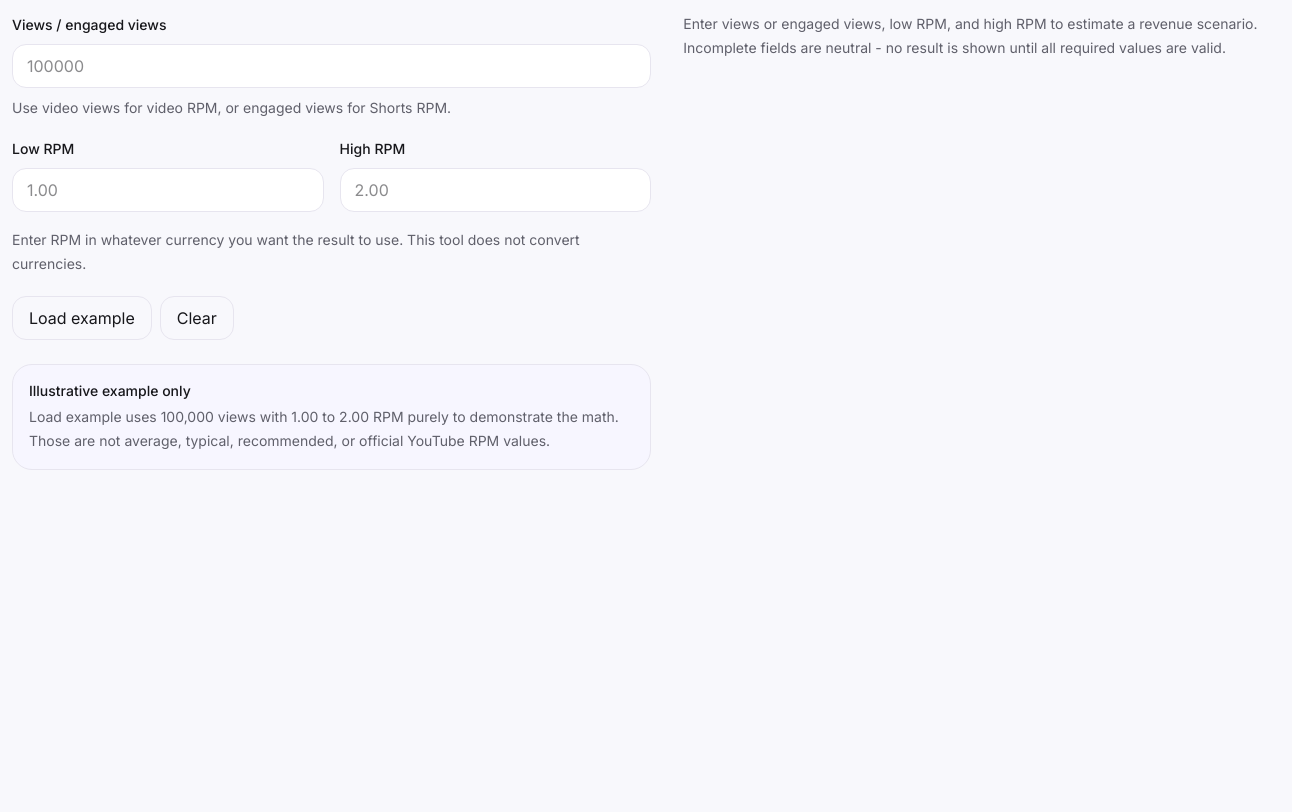
Test: YoutubeEarningsEstimator › loads an illustrative example and clears it
What coordinates should you click on to do the following:
click the button "Load example"
I would click on:
 (82, 318)
Its box is [12,296,152,340].
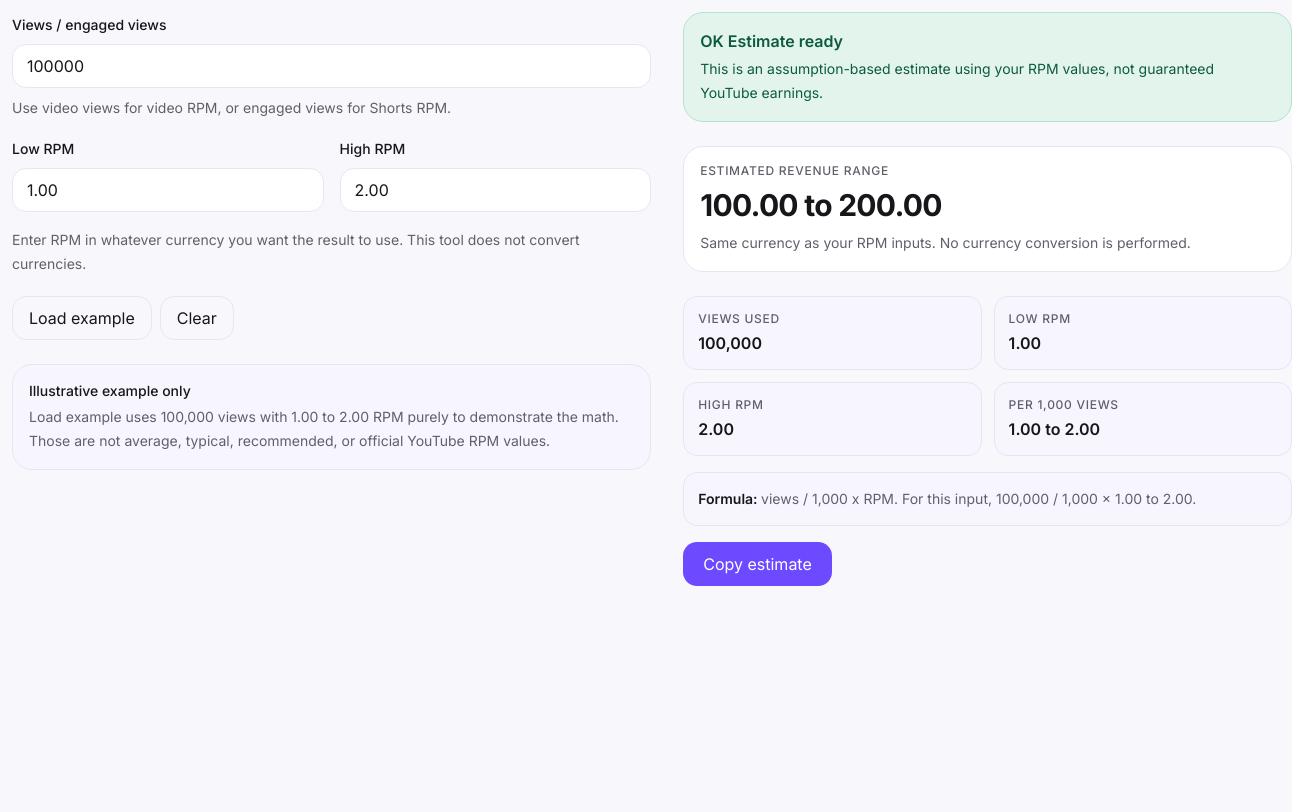
Result: the field labelled "Views / engaged views" holds "100000" at [12,44,651,88]
Result: the field labelled "Low RPM" holds "1.00" at [12,168,324,212]
Result: the field labelled "High RPM" holds "2.00" at [340,168,651,212]
What coordinates should you click on to do the following:
click the button "Clear"
I would click on:
 (197, 318)
Its box is [160,296,234,340].
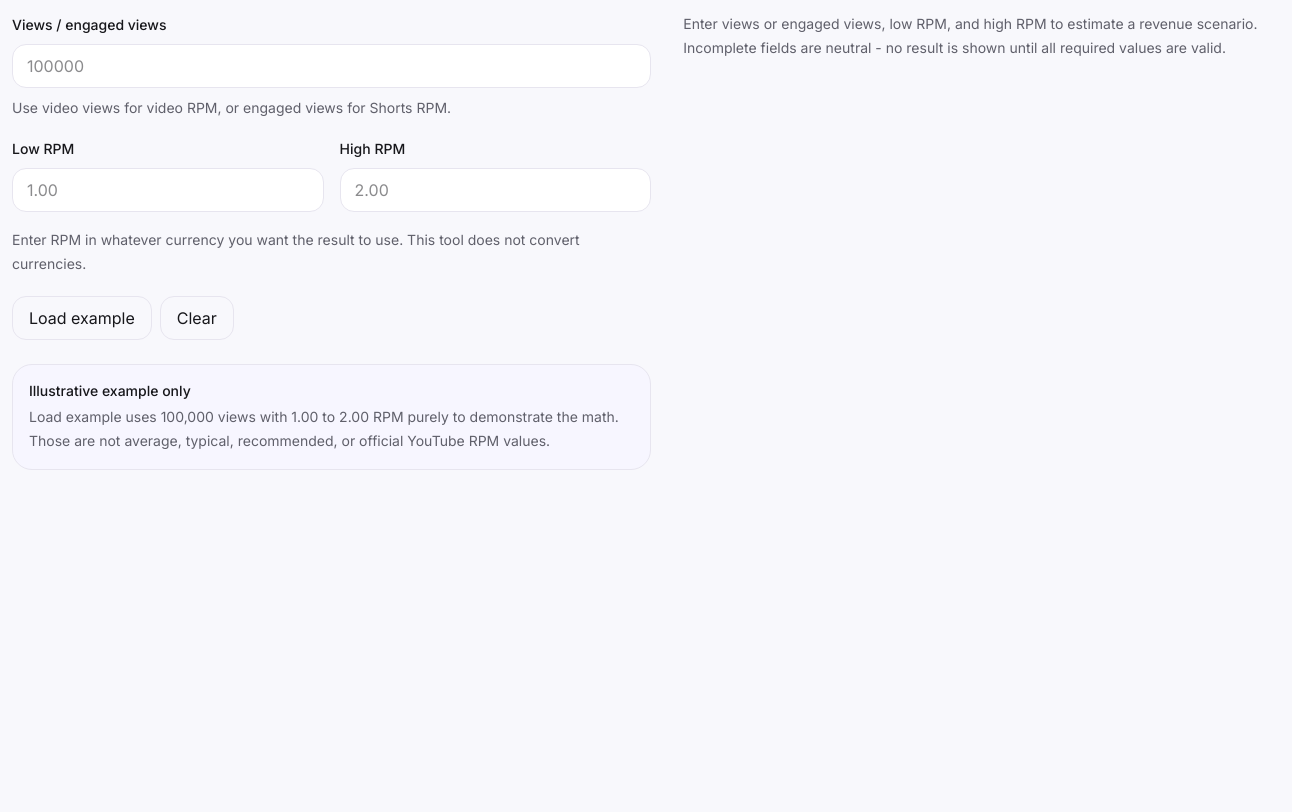
Result: the field labelled "Views / engaged views" is empty at [12,44,651,88]
Result: the field labelled "Low RPM" is empty at [12,168,324,212]
Result: the field labelled "High RPM" is empty at [340,168,651,212]
